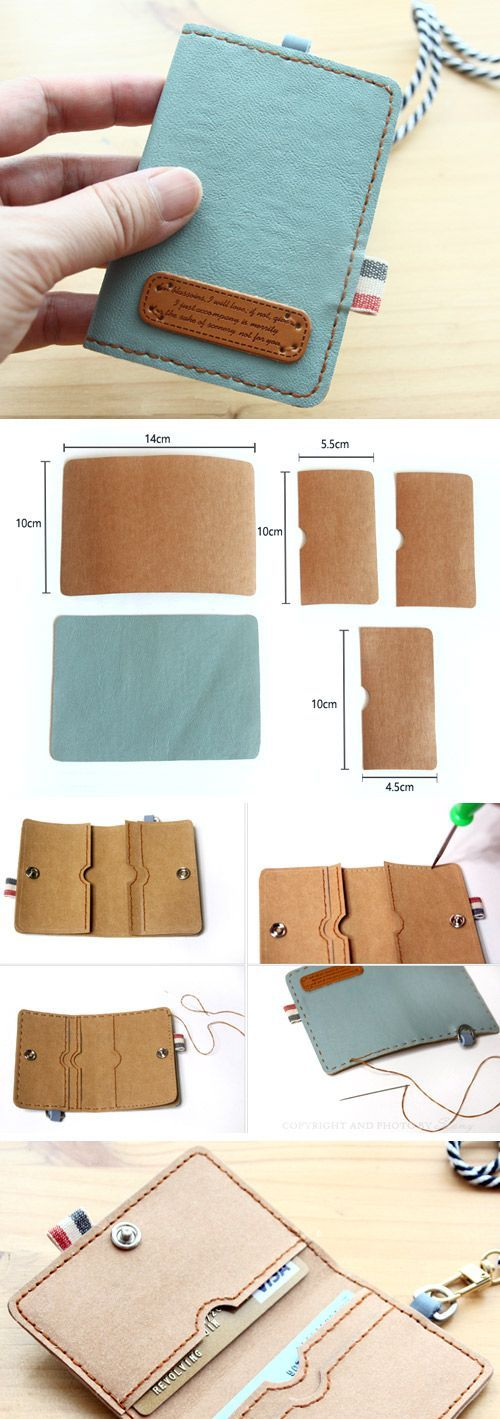cuero: (5, 1146, 487, 1419)
